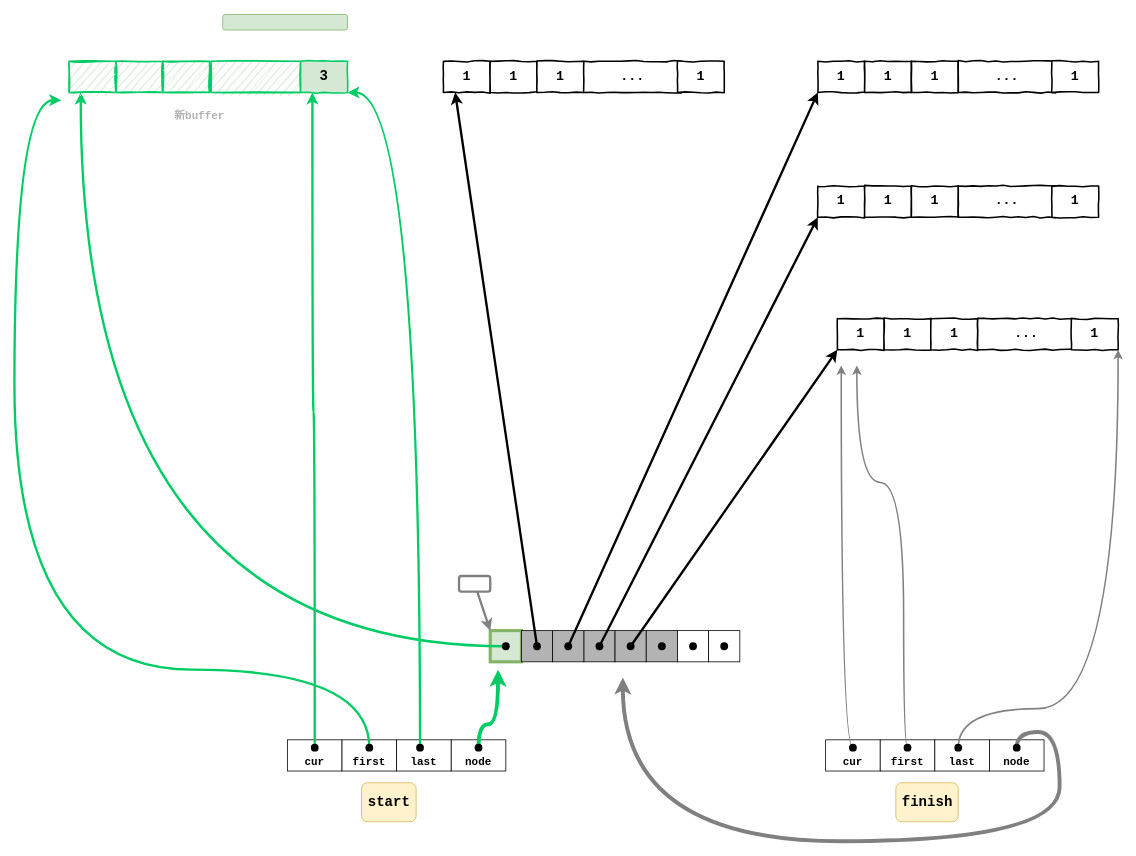
Some shapes in this 1136 by 856 pixel diagram are drawn without their labels. The centre of each missing label's shape, as x and y in pixels:
map: (x=474, y=583)
push_front(3): (x=284, y=22)
